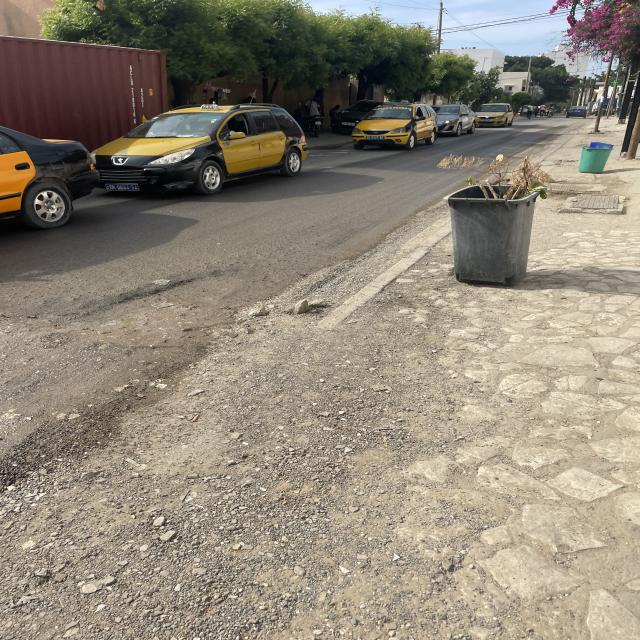particulier: (434, 105, 481, 138), (567, 106, 587, 121)
taxi: (94, 103, 308, 193), (1, 123, 100, 234), (350, 104, 440, 151), (476, 102, 519, 127)
